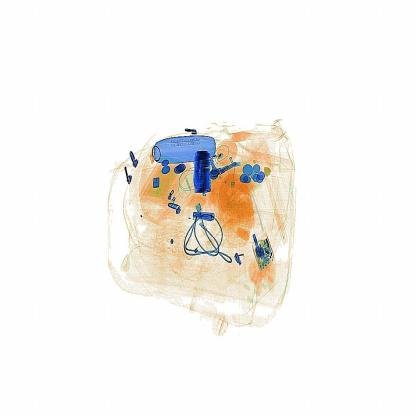scissors: (190, 142, 218, 198)
